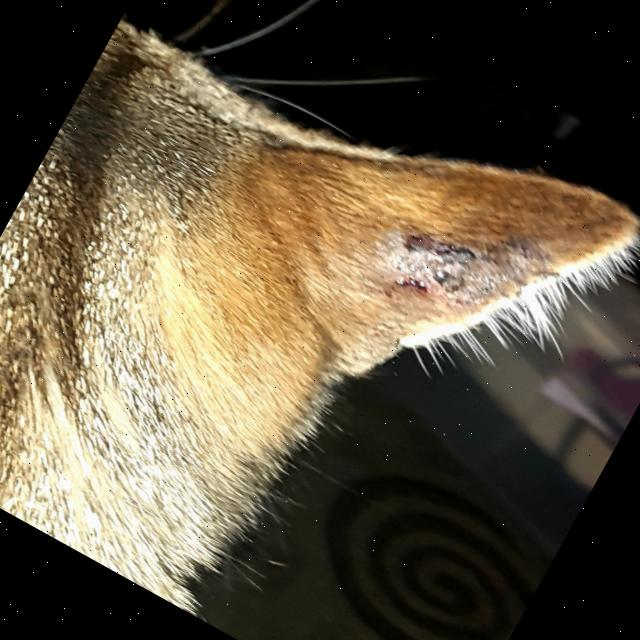cat-scabies: (378, 187, 556, 350)
